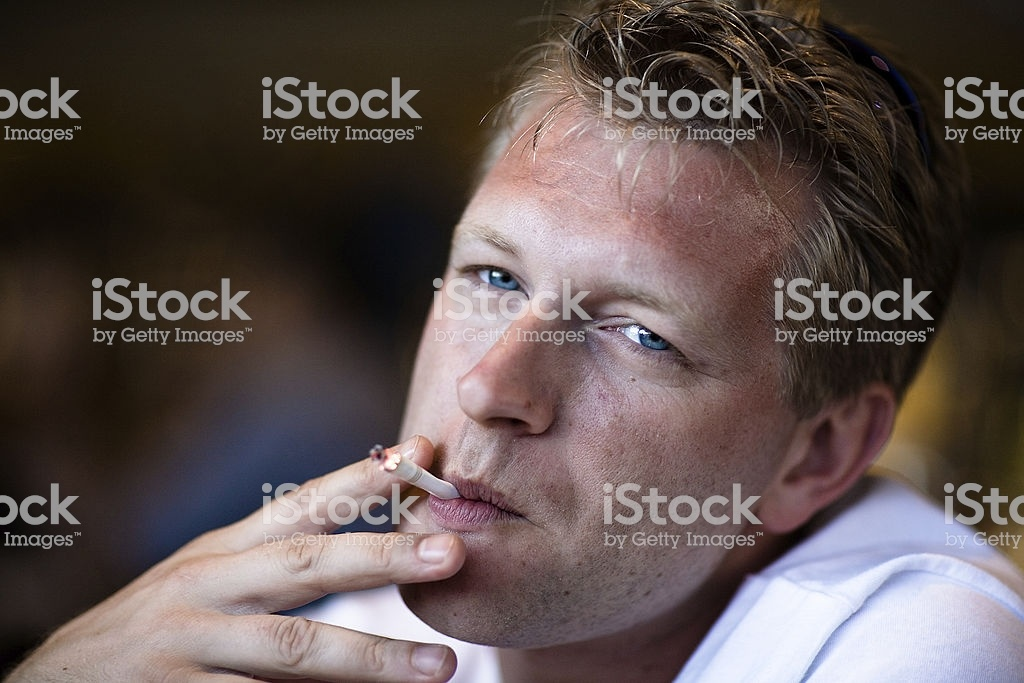sigaretta: (366, 444, 468, 501)
